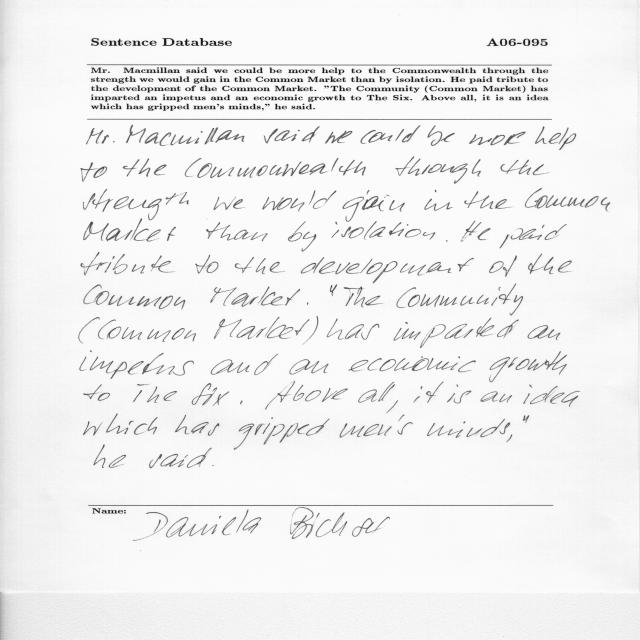word: (301, 257, 474, 284), (397, 284, 523, 315), (393, 318, 519, 348), (185, 158, 366, 178), (83, 189, 189, 220), (80, 351, 194, 379), (234, 417, 330, 450), (84, 284, 185, 310), (126, 125, 244, 146), (489, 351, 567, 382), (265, 381, 348, 410), (395, 157, 481, 184), (98, 320, 196, 342), (81, 253, 174, 276), (84, 219, 176, 242), (214, 317, 310, 339), (348, 356, 476, 372), (525, 188, 610, 212), (343, 190, 405, 222), (332, 222, 436, 240), (210, 287, 300, 307), (340, 415, 413, 438), (500, 224, 567, 249), (84, 414, 158, 436), (427, 419, 510, 438), (263, 191, 337, 212), (211, 354, 278, 375), (523, 384, 580, 407), (150, 448, 212, 469), (207, 222, 268, 241), (327, 318, 379, 340), (361, 125, 421, 144), (535, 126, 576, 150), (264, 127, 320, 144), (175, 415, 219, 436), (528, 254, 572, 274), (288, 221, 316, 252), (464, 191, 512, 209), (192, 383, 229, 406), (235, 257, 285, 274), (133, 384, 177, 403), (344, 287, 383, 308), (469, 132, 526, 146), (123, 159, 167, 177), (358, 382, 395, 403), (94, 445, 126, 468), (501, 160, 550, 175), (414, 382, 444, 403), (290, 359, 329, 375), (489, 255, 517, 277), (461, 221, 490, 242), (427, 125, 455, 146), (425, 190, 453, 211), (79, 317, 100, 343), (81, 162, 107, 182), (528, 325, 561, 340), (86, 128, 115, 144), (195, 255, 219, 274), (447, 385, 471, 404), (84, 384, 110, 401), (303, 317, 318, 345), (214, 197, 245, 210), (480, 392, 512, 403), (325, 131, 352, 144), (386, 401, 398, 414), (330, 285, 337, 296), (507, 435, 513, 443), (523, 415, 529, 423), (240, 401, 243, 405), (446, 240, 448, 242), (307, 302, 308, 305), (212, 465, 214, 466)
